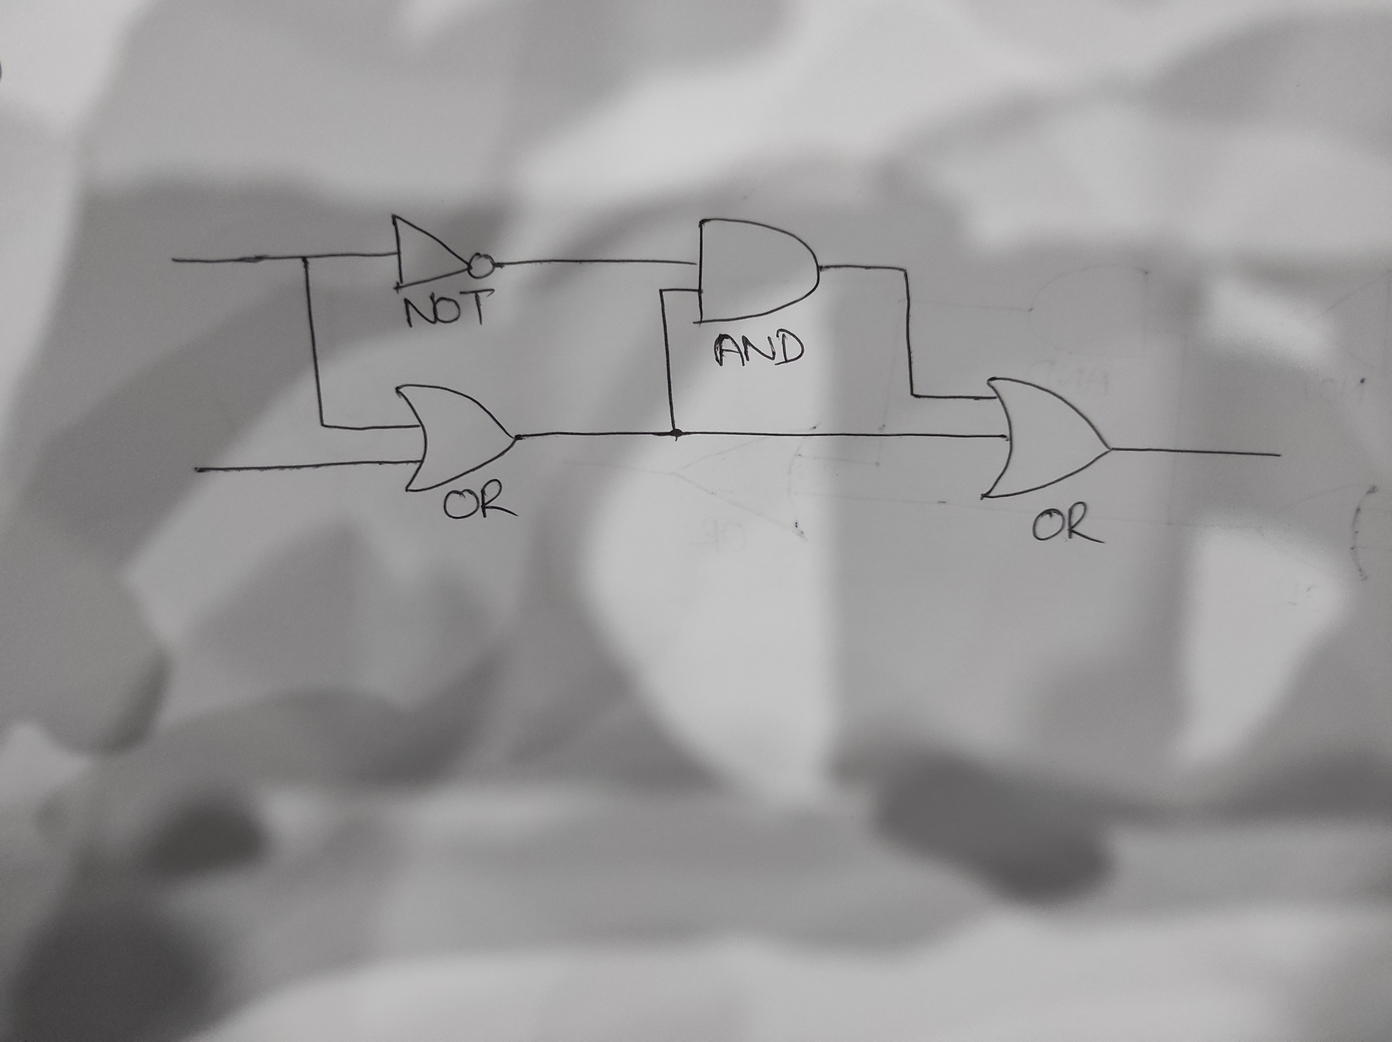and: (689, 213, 825, 328)
junction: (288, 246, 317, 271), (891, 257, 917, 281), (901, 383, 925, 408), (665, 422, 685, 442), (313, 416, 330, 433), (654, 282, 670, 299)
not: (388, 210, 501, 296)
or: (975, 374, 1115, 503), (393, 378, 525, 496)
terminal: (162, 248, 189, 269), (1266, 447, 1290, 465), (187, 461, 209, 478)
text: (402, 285, 497, 331), (709, 327, 807, 368), (440, 476, 522, 522), (1029, 501, 1109, 548)
